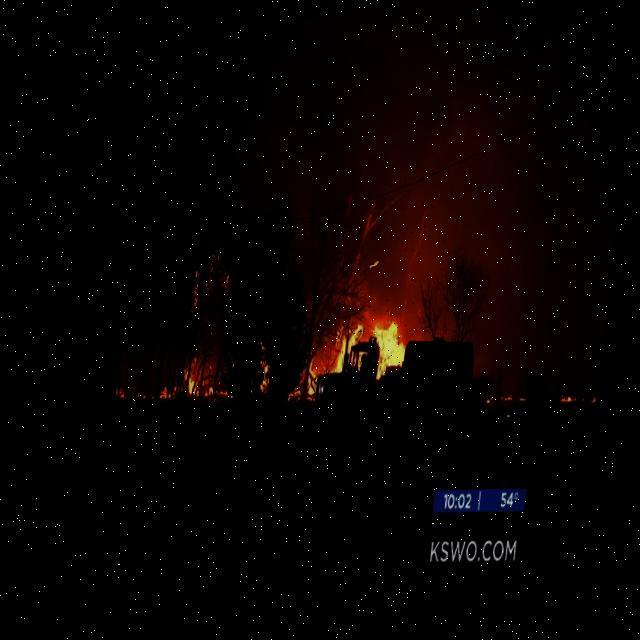Fire: (376, 316, 416, 381), (335, 321, 377, 376), (312, 358, 330, 402), (191, 368, 211, 398), (214, 382, 243, 400), (169, 380, 190, 401), (568, 392, 588, 407), (122, 387, 139, 400), (596, 393, 606, 408), (512, 394, 522, 406)
